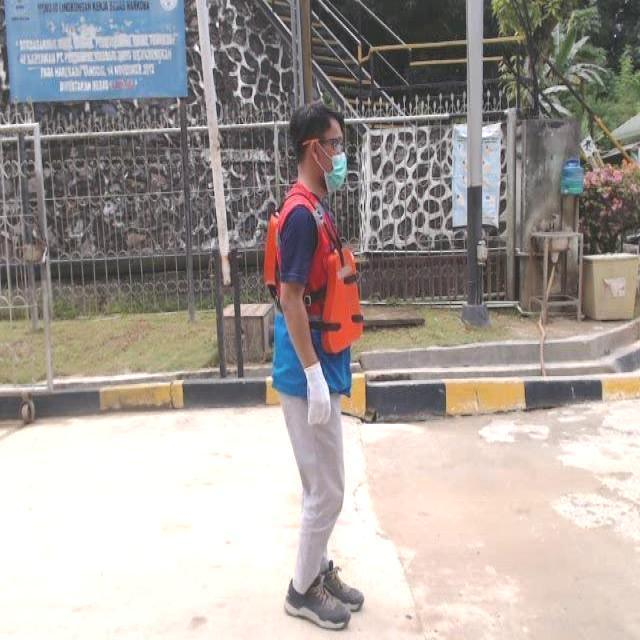vest: (268, 181, 364, 398)
